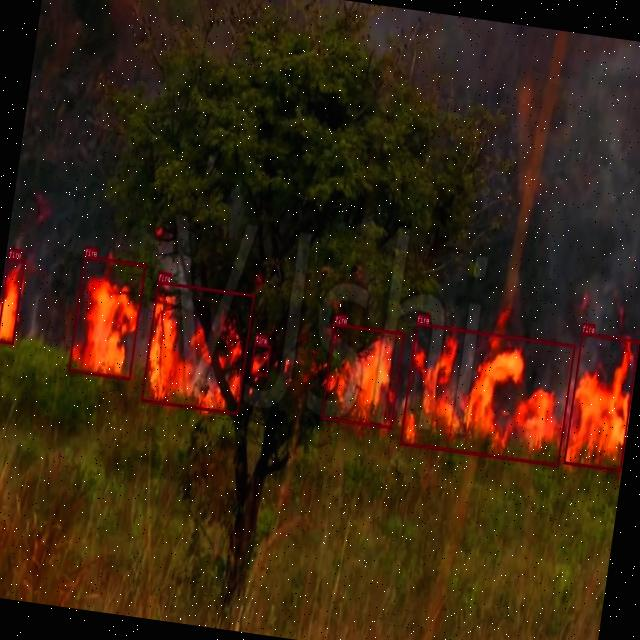fire: (399, 322, 576, 466), (140, 280, 254, 414), (563, 332, 639, 472), (67, 256, 146, 380), (320, 322, 404, 428), (0, 257, 25, 344), (250, 342, 271, 377)
